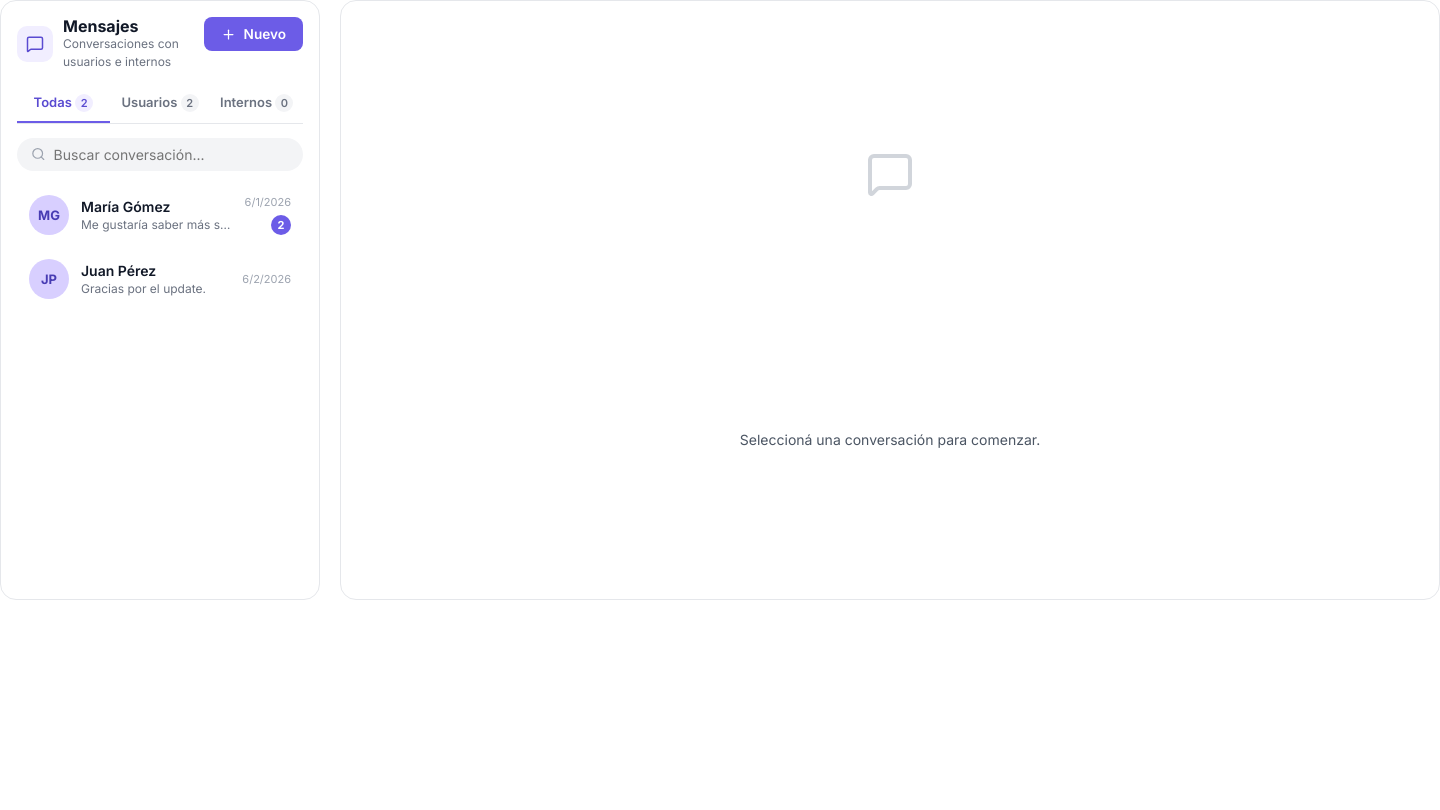
Test: MensajesSection › filtra la lista al buscar por nombre
Expected: the button "MG María Gómez Me gustaría saber más sobre Luna. 6/1/2026 2" is shown, [17, 185, 303, 245]
Type "juan" into the search field. click: (171, 154)
box: [54, 146, 289, 163]
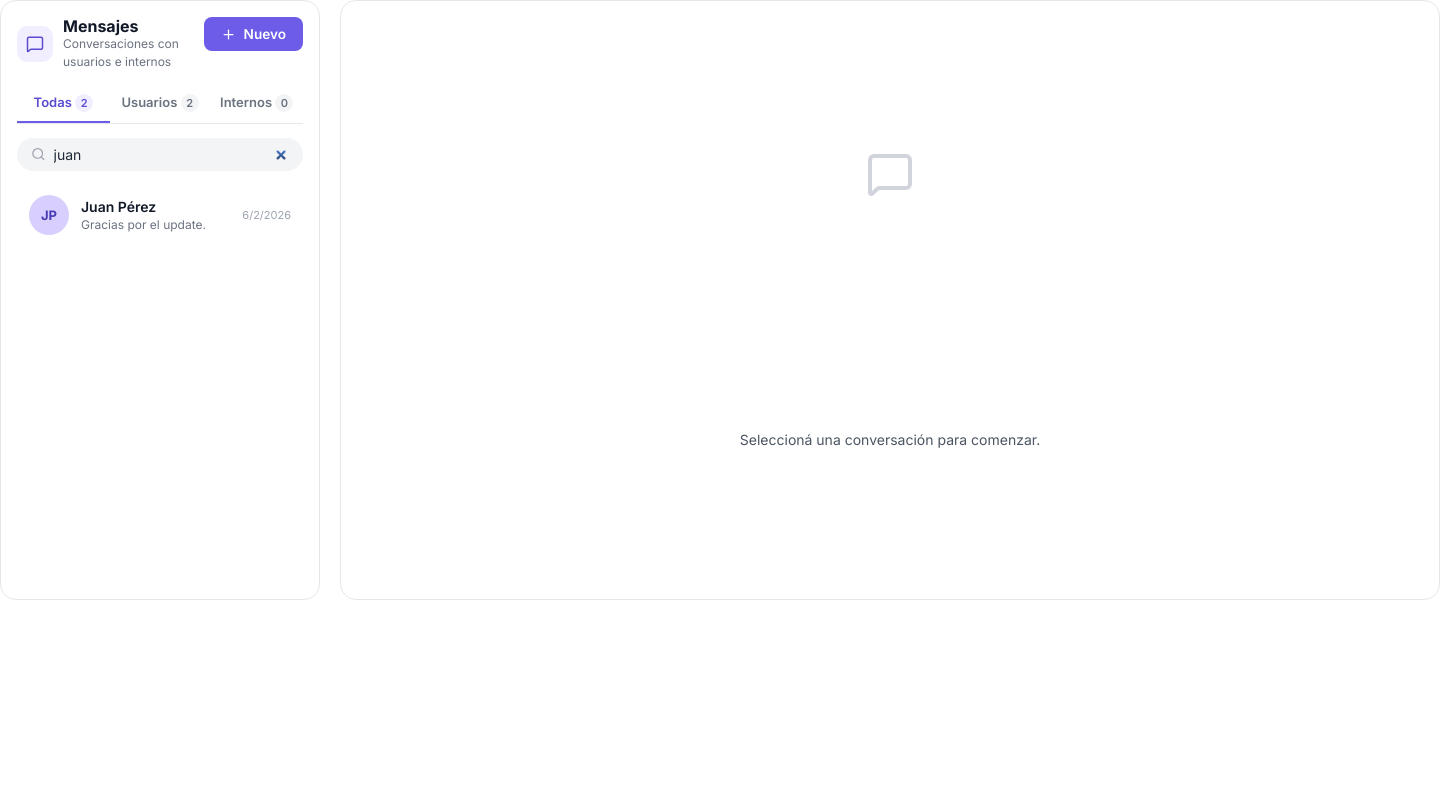
Expected: the button "JP Juan Pérez Gracias por el update. 6/2/2026" is shown, [17, 185, 303, 245]
Expected: the button "María Gómez" is gone
